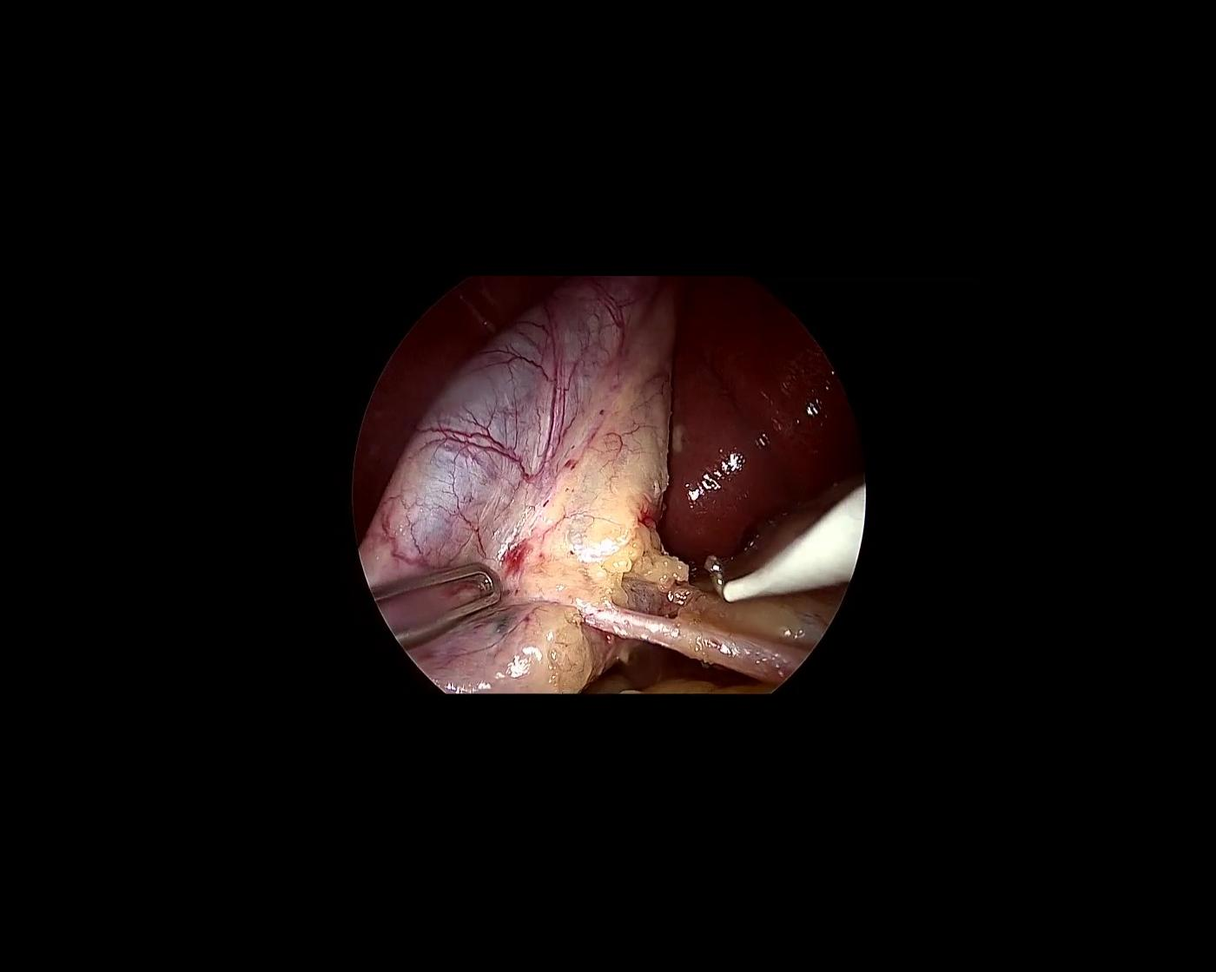Cautery: (703, 484, 884, 610)
Forceps: (371, 535, 514, 651)
Gallbladder: (330, 218, 716, 734)
Liver: (291, 227, 564, 538), (667, 283, 862, 565)
